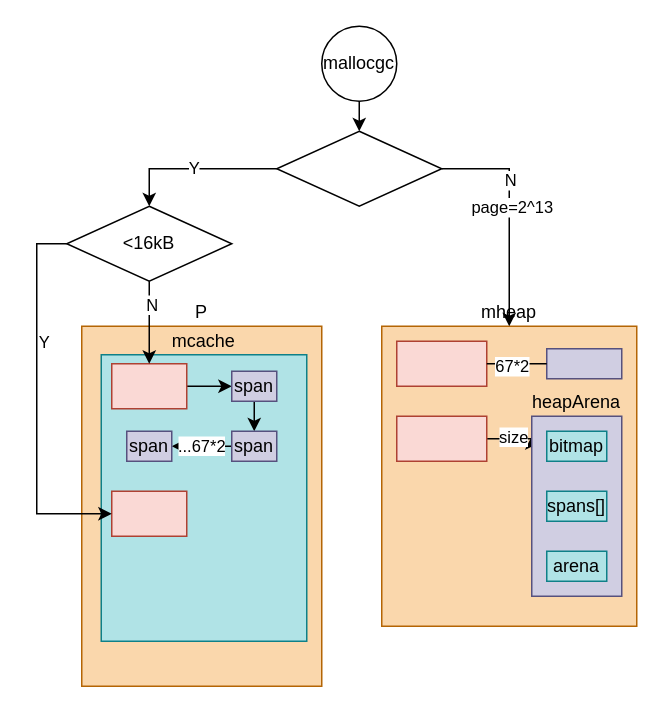
This 663x713 diagram has some shape labels left out. The shapes that lost their labels are listed below. From the top down, each one's centre as x and y in pixels, then its label:
(358,168): <=32kB
(441,363): central []
(583,363): mcentral
(148,385): alloc []
(441,438): arenas[][]
(148,513): *tiny
